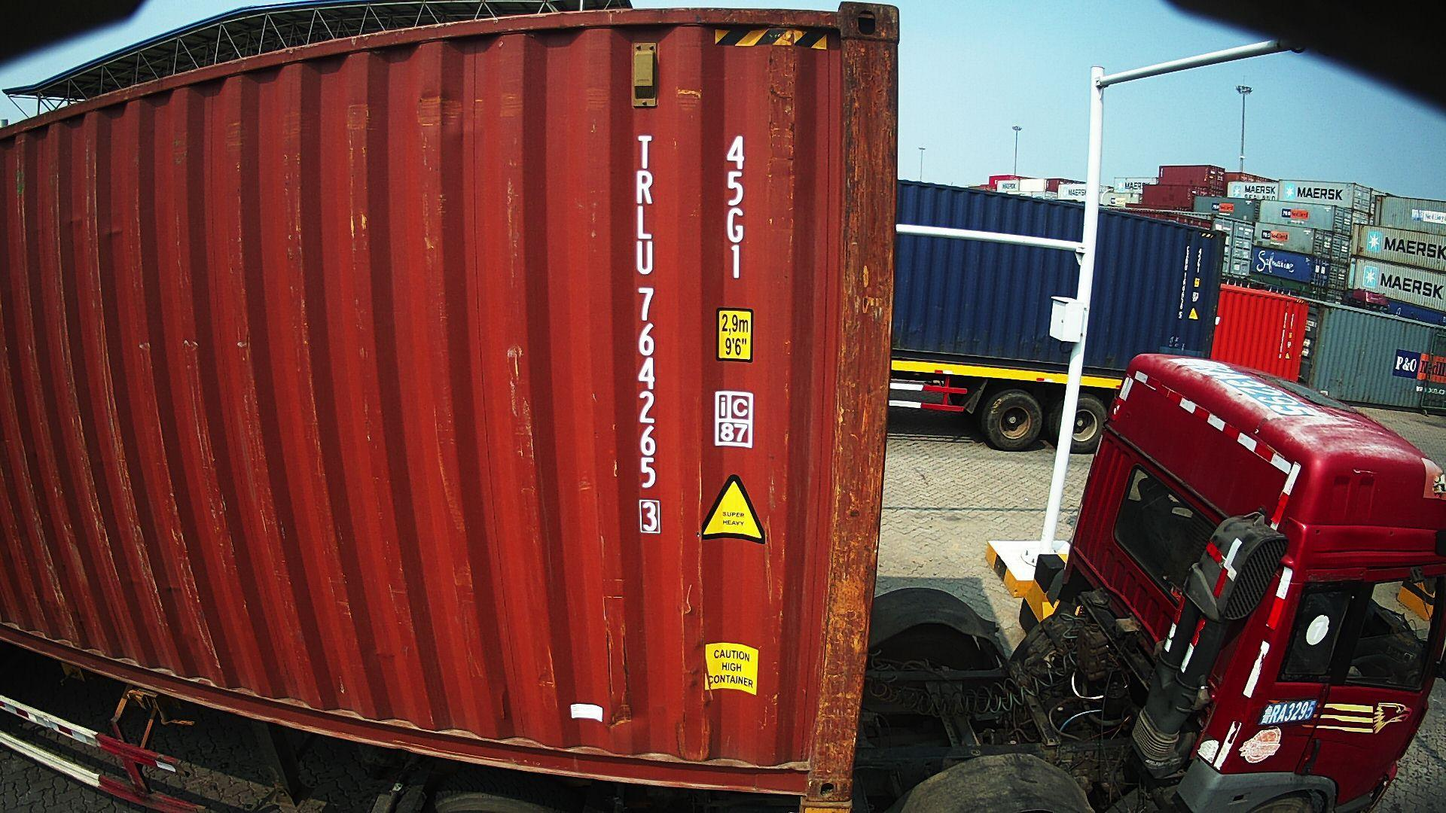container-numbers: (630, 131, 667, 540), (722, 132, 752, 285)
